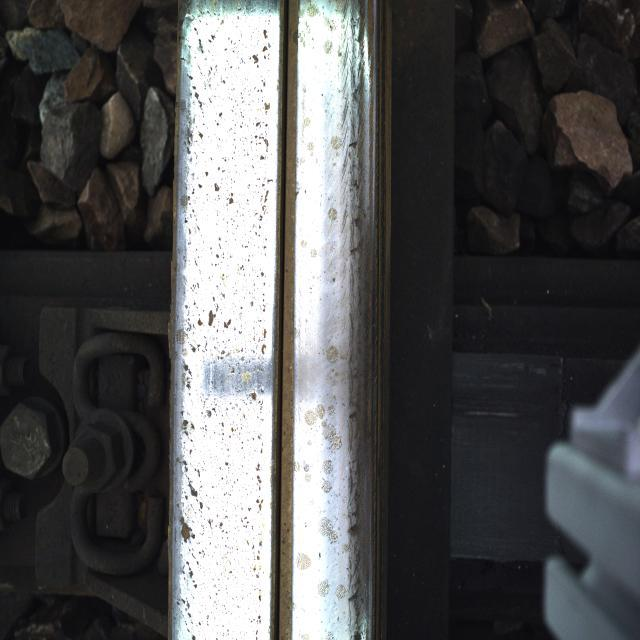scar: (184, 14, 275, 458), (310, 20, 359, 489)
